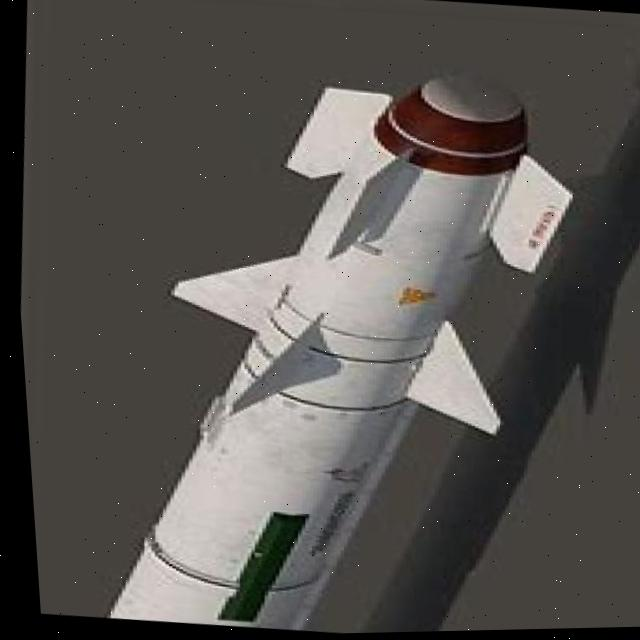missile: (64, 44, 611, 639)
